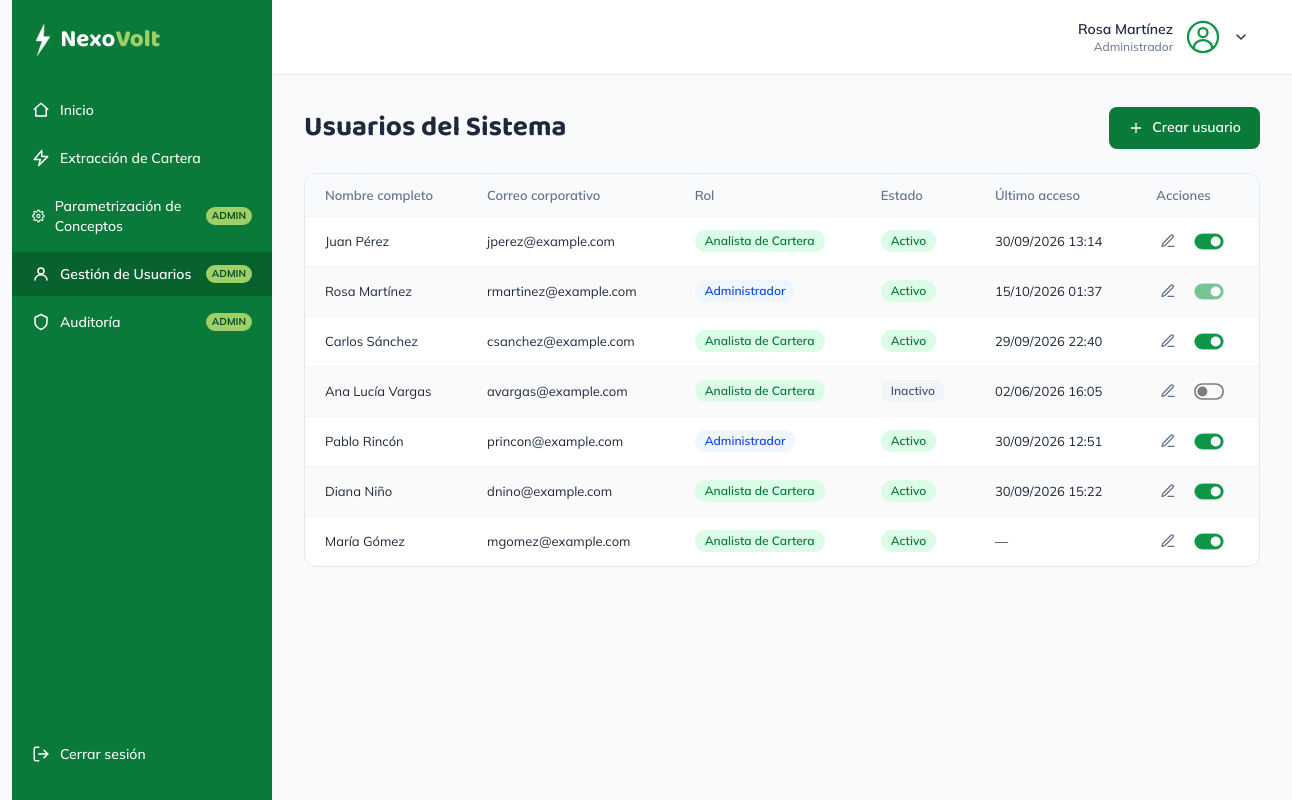
Test: activar y desactivar › activar un usuario desactivado es inmediato
Expected: the text "Juan Pérez" is shown, [305,216,467,266]
What coordinates should you click on to do the following:
click the switch named "Usuario Ana Lucía Vargas activo"
I would click on:
 (1209, 391)
Its box is [1190,379,1228,404].
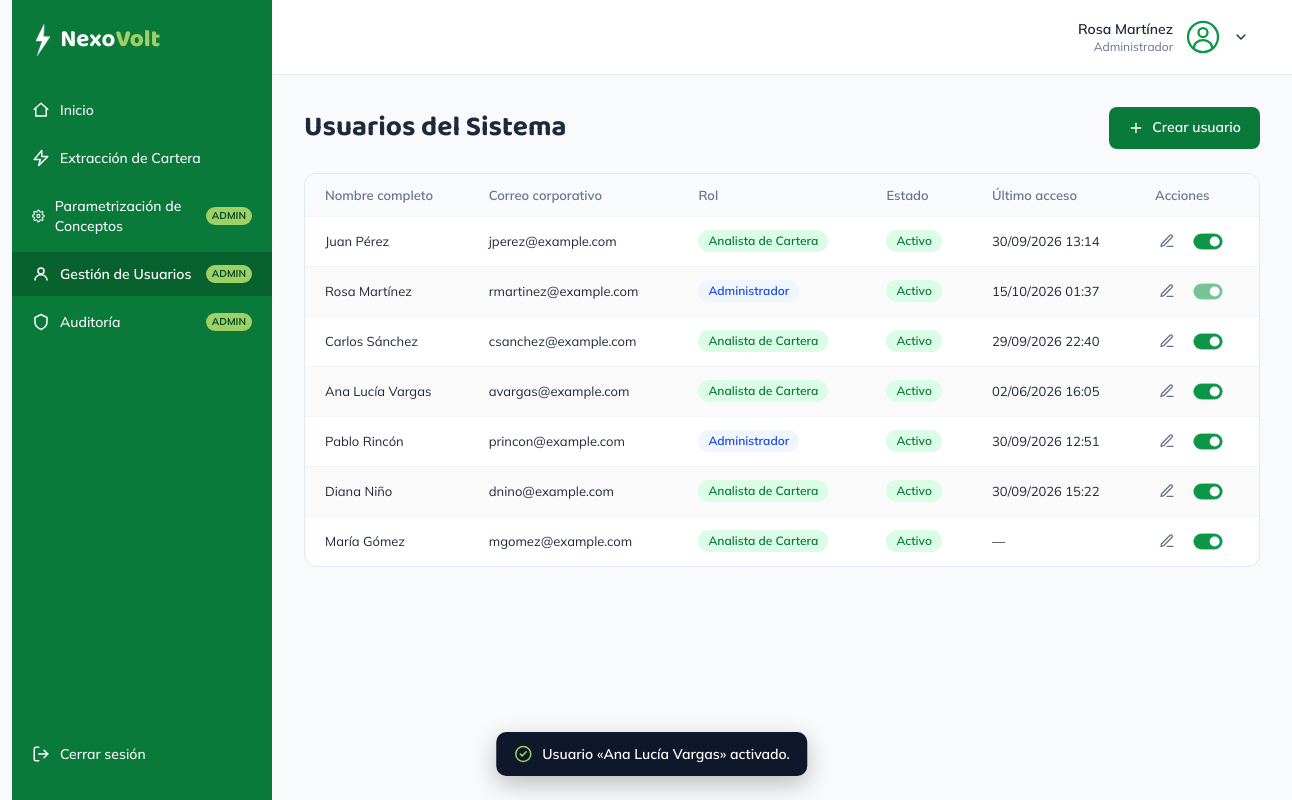
Expected: the text "Activo" in the row of "avargas@example.com" is shown, [896,383,932,398]
Now the text "Usuario «Ana Lucía Vargas» activado." is shown, box [542,744,790,764]
